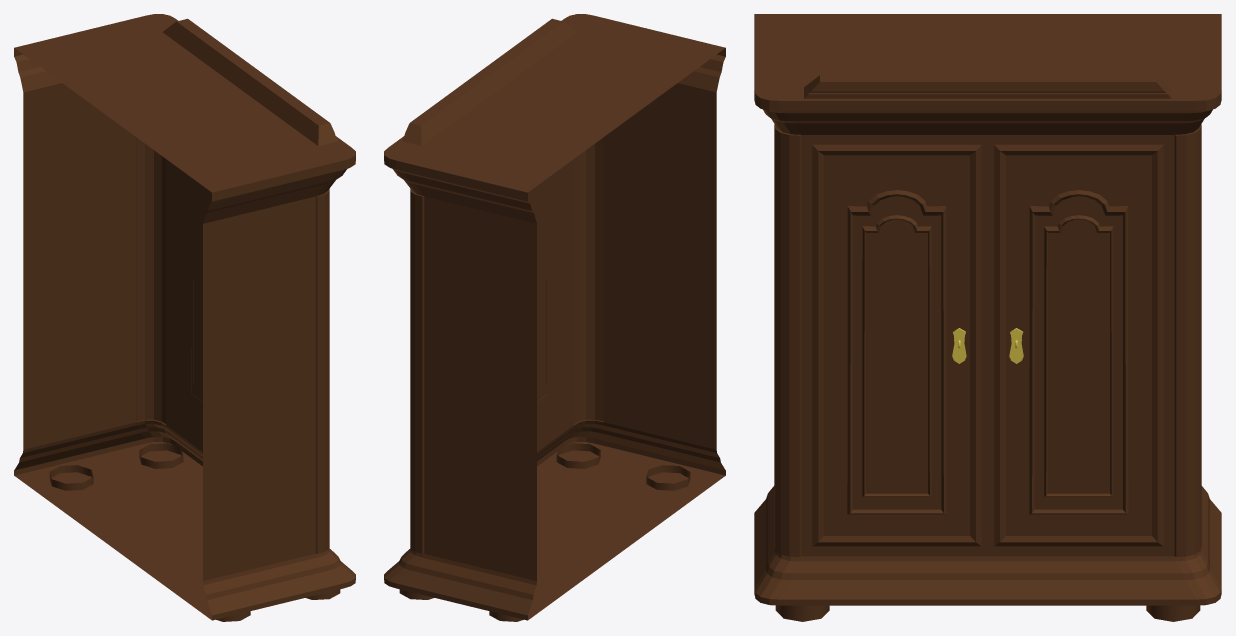
Rendered from Armoire.fbx.
3 renders of one model, left to right at view 1: azimuth 30°, elevation 25°; view 2: azimuth 150°, elevation 25°; view 3: azimuth 270°, elevation 25°, orthographic. The views are drawn at different scales.
Visible parts, largest first — view 1: lentairne; view 2: lentairne; view 3: lentairne.
Boxes of the visible parts, left/top/right/bottom form: lentairne: left=14, top=14, right=355, bottom=621; lentairne: left=384, top=14, right=725, bottom=621; lentairne: left=754, top=14, right=1221, bottom=621.
Bounding box in the file's own units: 71.82 × 208 × 163.
